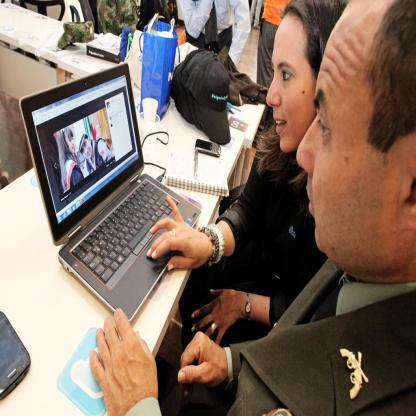board: (29, 58, 197, 320)
